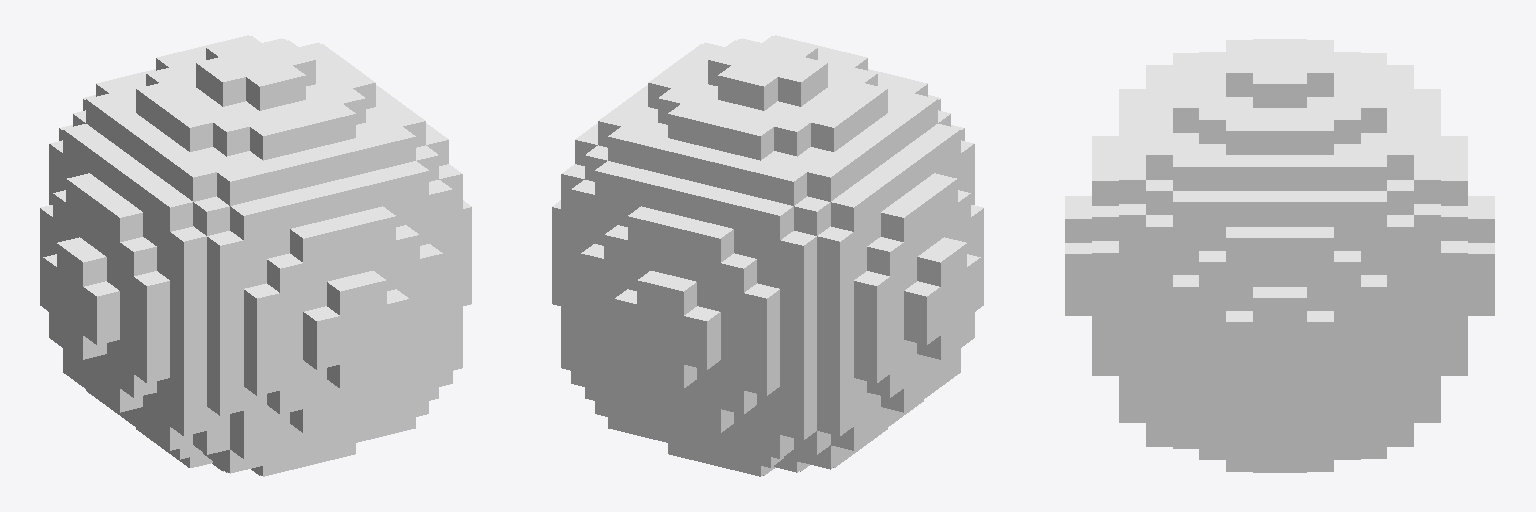
Rendered from Earthy.obj.
3 views of the same model, side by side, from view 1: azimuth 30°, elevation 25°; view 2: azimuth 150°, elevation 25°; view 3: azimuth 270°, elevation 25° (orthographic).
Parts seen in each view (by area): view 1: Earthy; view 2: Earthy; view 3: Earthy.
Boxes of the visible parts, <box> form: Earthy: <box>40,35,471,476</box>; Earthy: <box>552,35,983,476</box>; Earthy: <box>1065,39,1494,472</box>.
Size of the model in its own units: 32 by 32 by 32.